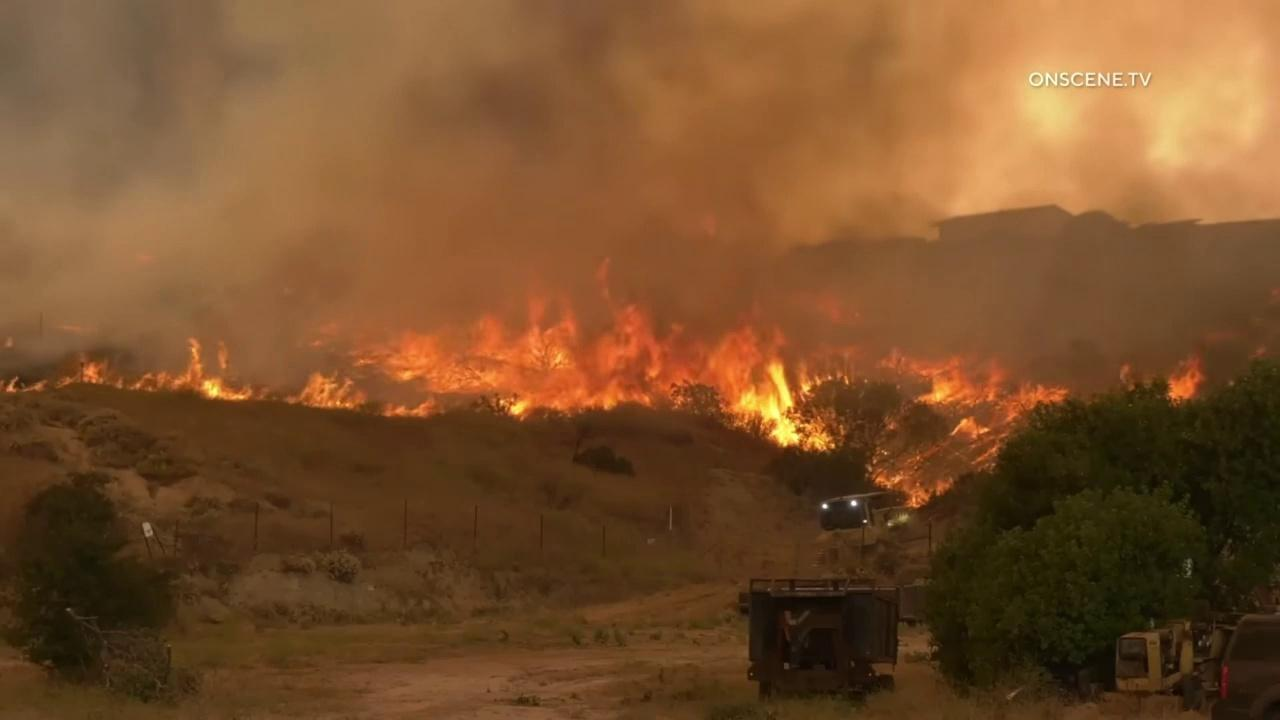fire: (283, 248, 864, 457), (872, 340, 1072, 507), (0, 337, 272, 400), (1164, 347, 1207, 409), (1116, 363, 1139, 390), (1250, 345, 1266, 360), (1, 336, 18, 348)
smoke: (0, 0, 1280, 400)
